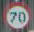Speed limit: (0, 1, 33, 30)
